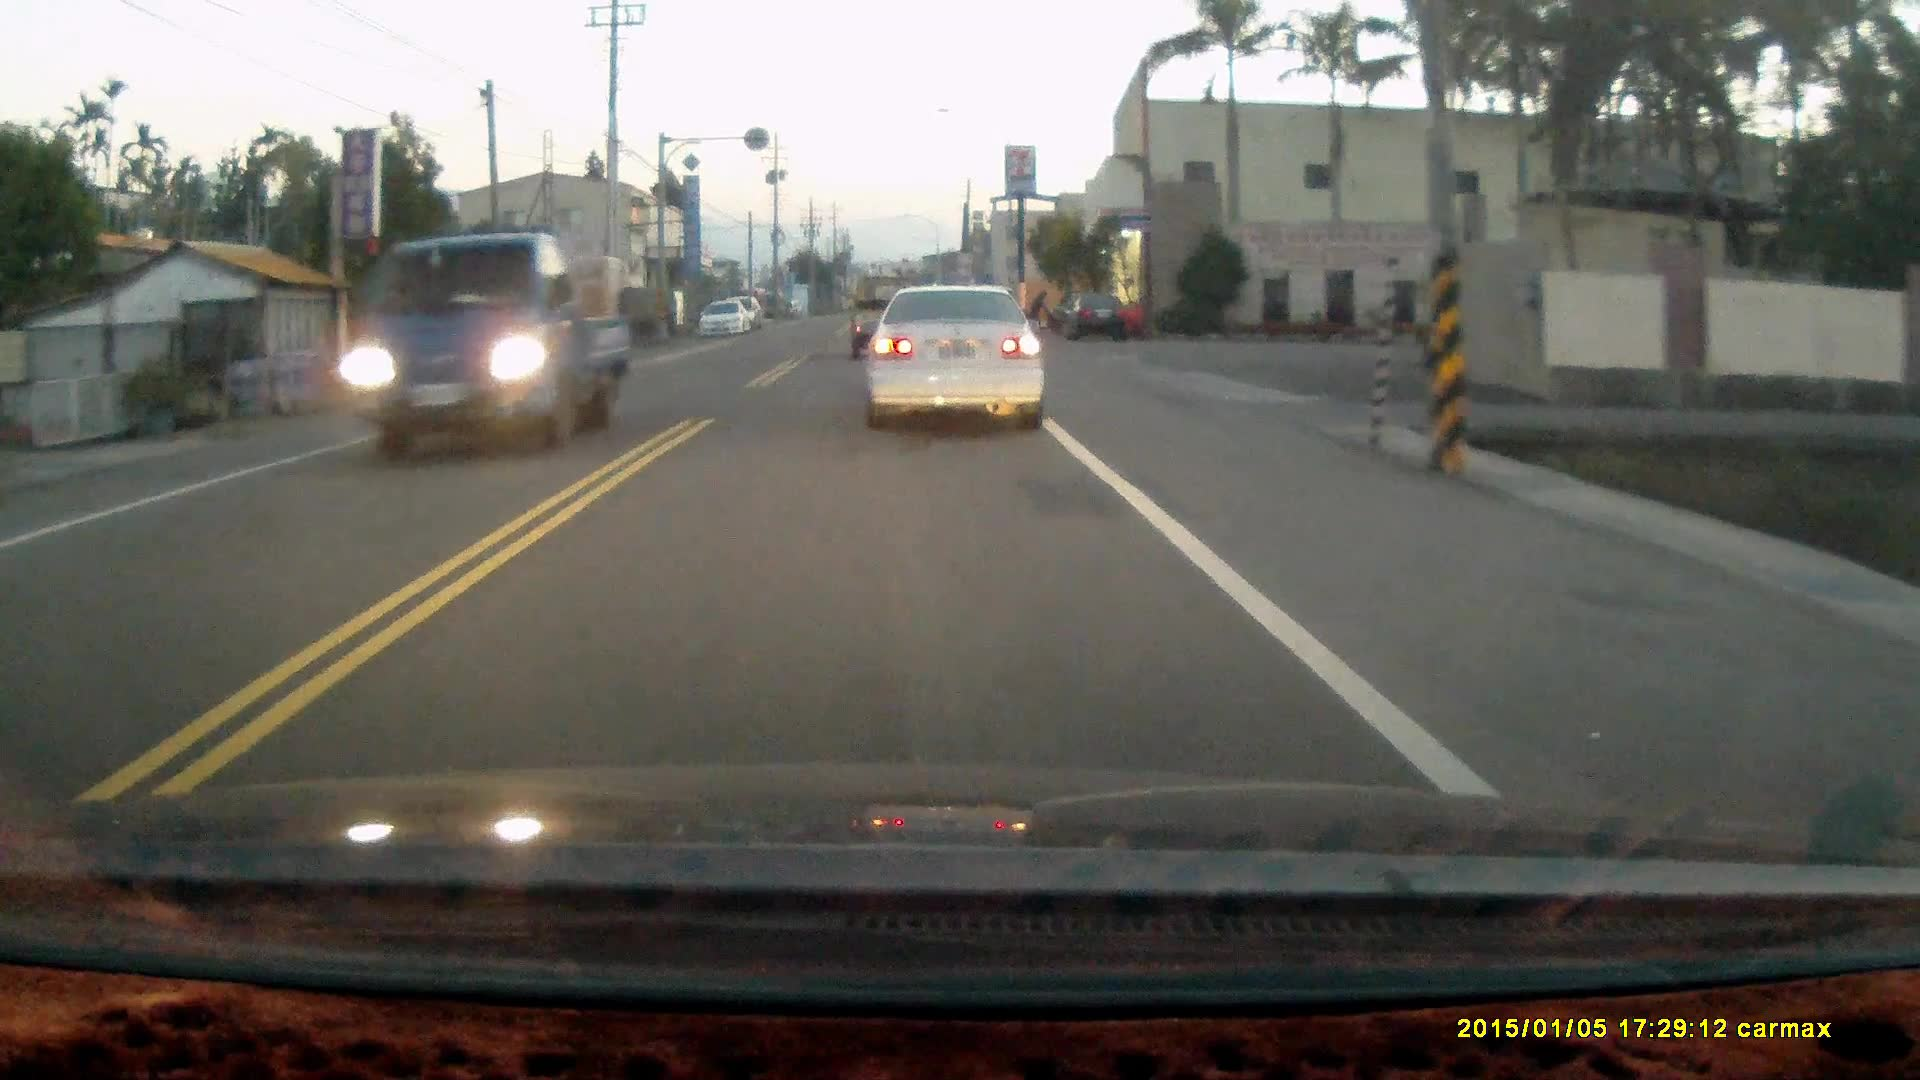rider: (1018, 287, 1059, 335)
vehicle: (339, 231, 636, 456), (872, 284, 1052, 436), (851, 275, 925, 363), (1063, 288, 1130, 343), (697, 298, 753, 344)
